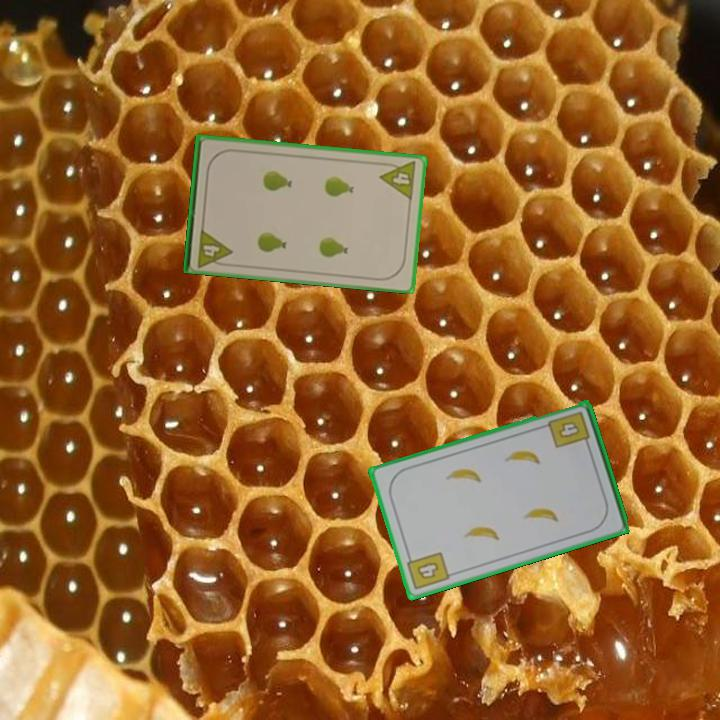4b: (403, 548, 452, 593), (545, 408, 593, 451)
4p: (377, 158, 419, 202), (194, 225, 234, 269)
